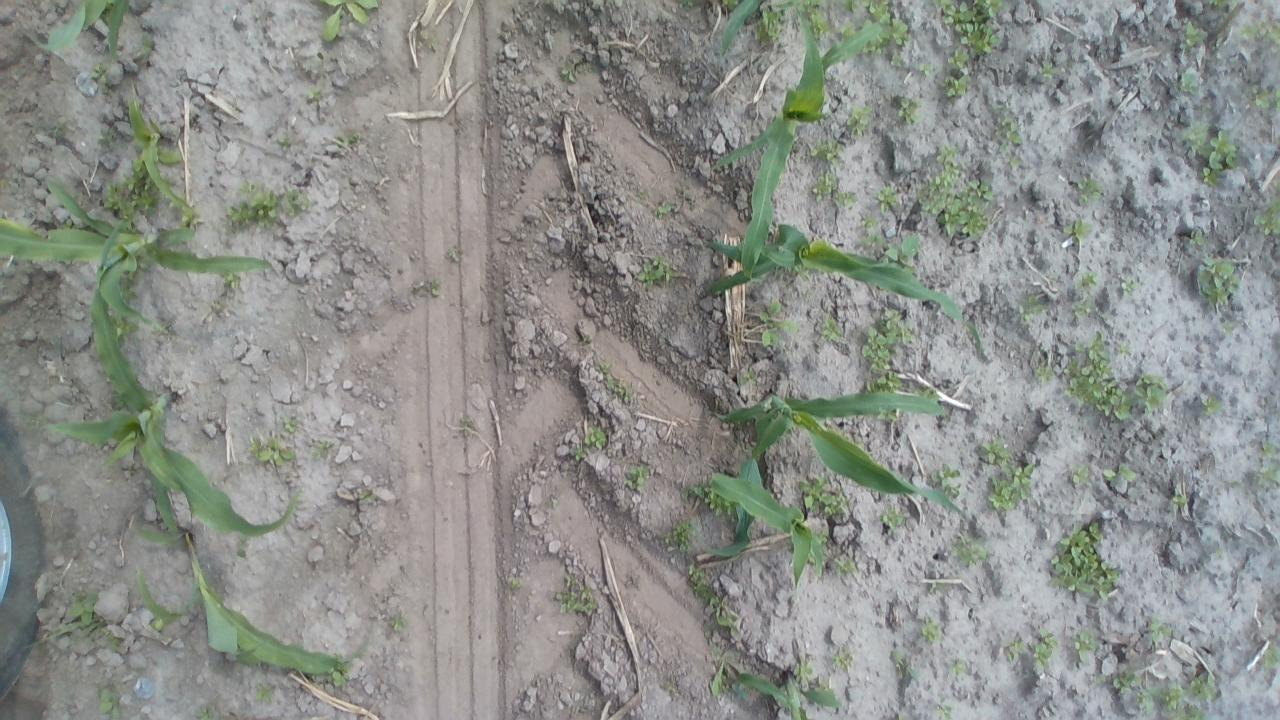Maize: (46, 214, 297, 537), (711, 14, 882, 280), (688, 395, 966, 558), (0, 179, 272, 334), (702, 224, 982, 356), (135, 530, 369, 675), (707, 470, 826, 590), (23, 0, 152, 65), (127, 95, 194, 217), (735, 665, 841, 720), (716, 0, 762, 62)
Weeds: (1058, 334, 1132, 420), (1046, 516, 1121, 600), (63, 592, 122, 652), (861, 310, 902, 394), (913, 146, 961, 215), (220, 178, 280, 230), (688, 564, 734, 627), (841, 2, 891, 55), (1192, 260, 1240, 314), (320, 1, 380, 42), (988, 462, 1034, 514), (936, 192, 989, 234), (756, 300, 800, 350), (704, 645, 742, 696), (680, 480, 732, 516), (124, 159, 158, 212), (1174, 118, 1216, 160), (552, 582, 595, 616), (598, 362, 631, 404), (1206, 130, 1236, 174), (701, 616, 744, 646), (250, 438, 296, 466), (960, 22, 996, 56), (754, 8, 786, 46), (798, 476, 834, 508), (1128, 380, 1170, 407), (1068, 296, 1110, 323), (1241, 17, 1280, 44), (943, 1, 974, 32), (890, 647, 919, 680), (885, 236, 919, 264), (975, 437, 1009, 464), (1188, 390, 1222, 417), (1253, 200, 1280, 234), (846, 106, 872, 140), (953, 539, 986, 565), (1250, 84, 1280, 112), (664, 520, 690, 552), (928, 463, 961, 487), (1016, 293, 1044, 321), (1177, 22, 1207, 48), (1159, 680, 1183, 712), (624, 465, 650, 494), (1250, 464, 1279, 490), (1076, 177, 1102, 205), (100, 687, 122, 720), (1190, 676, 1214, 706), (812, 319, 842, 343), (1102, 463, 1136, 483), (1073, 630, 1094, 662), (636, 262, 664, 286), (811, 140, 840, 163), (972, 0, 1002, 22), (1032, 628, 1058, 652), (897, 98, 920, 124), (100, 183, 122, 210), (1112, 672, 1140, 692), (834, 556, 857, 580), (1065, 220, 1088, 244), (310, 436, 334, 459), (584, 426, 608, 449), (810, 11, 829, 40), (1000, 121, 1022, 146), (881, 508, 904, 531), (1146, 618, 1170, 640), (1036, 58, 1060, 80), (944, 74, 968, 96), (252, 682, 276, 704), (810, 176, 830, 202), (286, 190, 306, 216), (1138, 688, 1155, 718), (220, 273, 242, 296), (1070, 463, 1090, 488), (1182, 700, 1206, 720), (826, 492, 846, 516), (970, 180, 994, 200), (892, 20, 909, 48), (1262, 640, 1280, 666), (878, 186, 896, 212), (387, 608, 405, 634), (1182, 69, 1200, 95), (946, 48, 968, 69), (1030, 644, 1052, 664), (921, 618, 940, 641), (831, 649, 852, 669), (838, 190, 860, 209), (1259, 437, 1278, 459), (234, 534, 250, 560), (1078, 268, 1098, 288), (792, 663, 813, 682), (123, 274, 138, 300), (737, 364, 756, 384), (353, 487, 373, 506), (948, 658, 965, 680), (425, 275, 442, 297), (861, 234, 884, 250), (652, 254, 672, 272), (112, 318, 132, 336), (1119, 276, 1136, 297), (568, 442, 586, 461), (338, 131, 359, 147), (1133, 369, 1152, 386), (192, 704, 215, 718), (92, 63, 108, 83), (328, 668, 344, 688), (654, 200, 671, 218), (1036, 366, 1053, 384), (448, 245, 464, 264), (1006, 640, 1021, 660), (47, 124, 68, 138), (1188, 228, 1204, 246), (99, 127, 113, 147), (944, 483, 960, 500), (1007, 154, 1022, 172), (923, 389, 943, 402), (1174, 488, 1188, 505), (862, 214, 876, 231), (636, 185, 650, 200), (284, 419, 298, 434), (936, 703, 952, 716), (277, 134, 290, 150), (919, 62, 932, 77), (879, 411, 897, 421), (676, 0, 696, 9), (509, 576, 521, 590), (310, 89, 322, 102), (721, 1, 738, 9), (890, 56, 902, 66)
